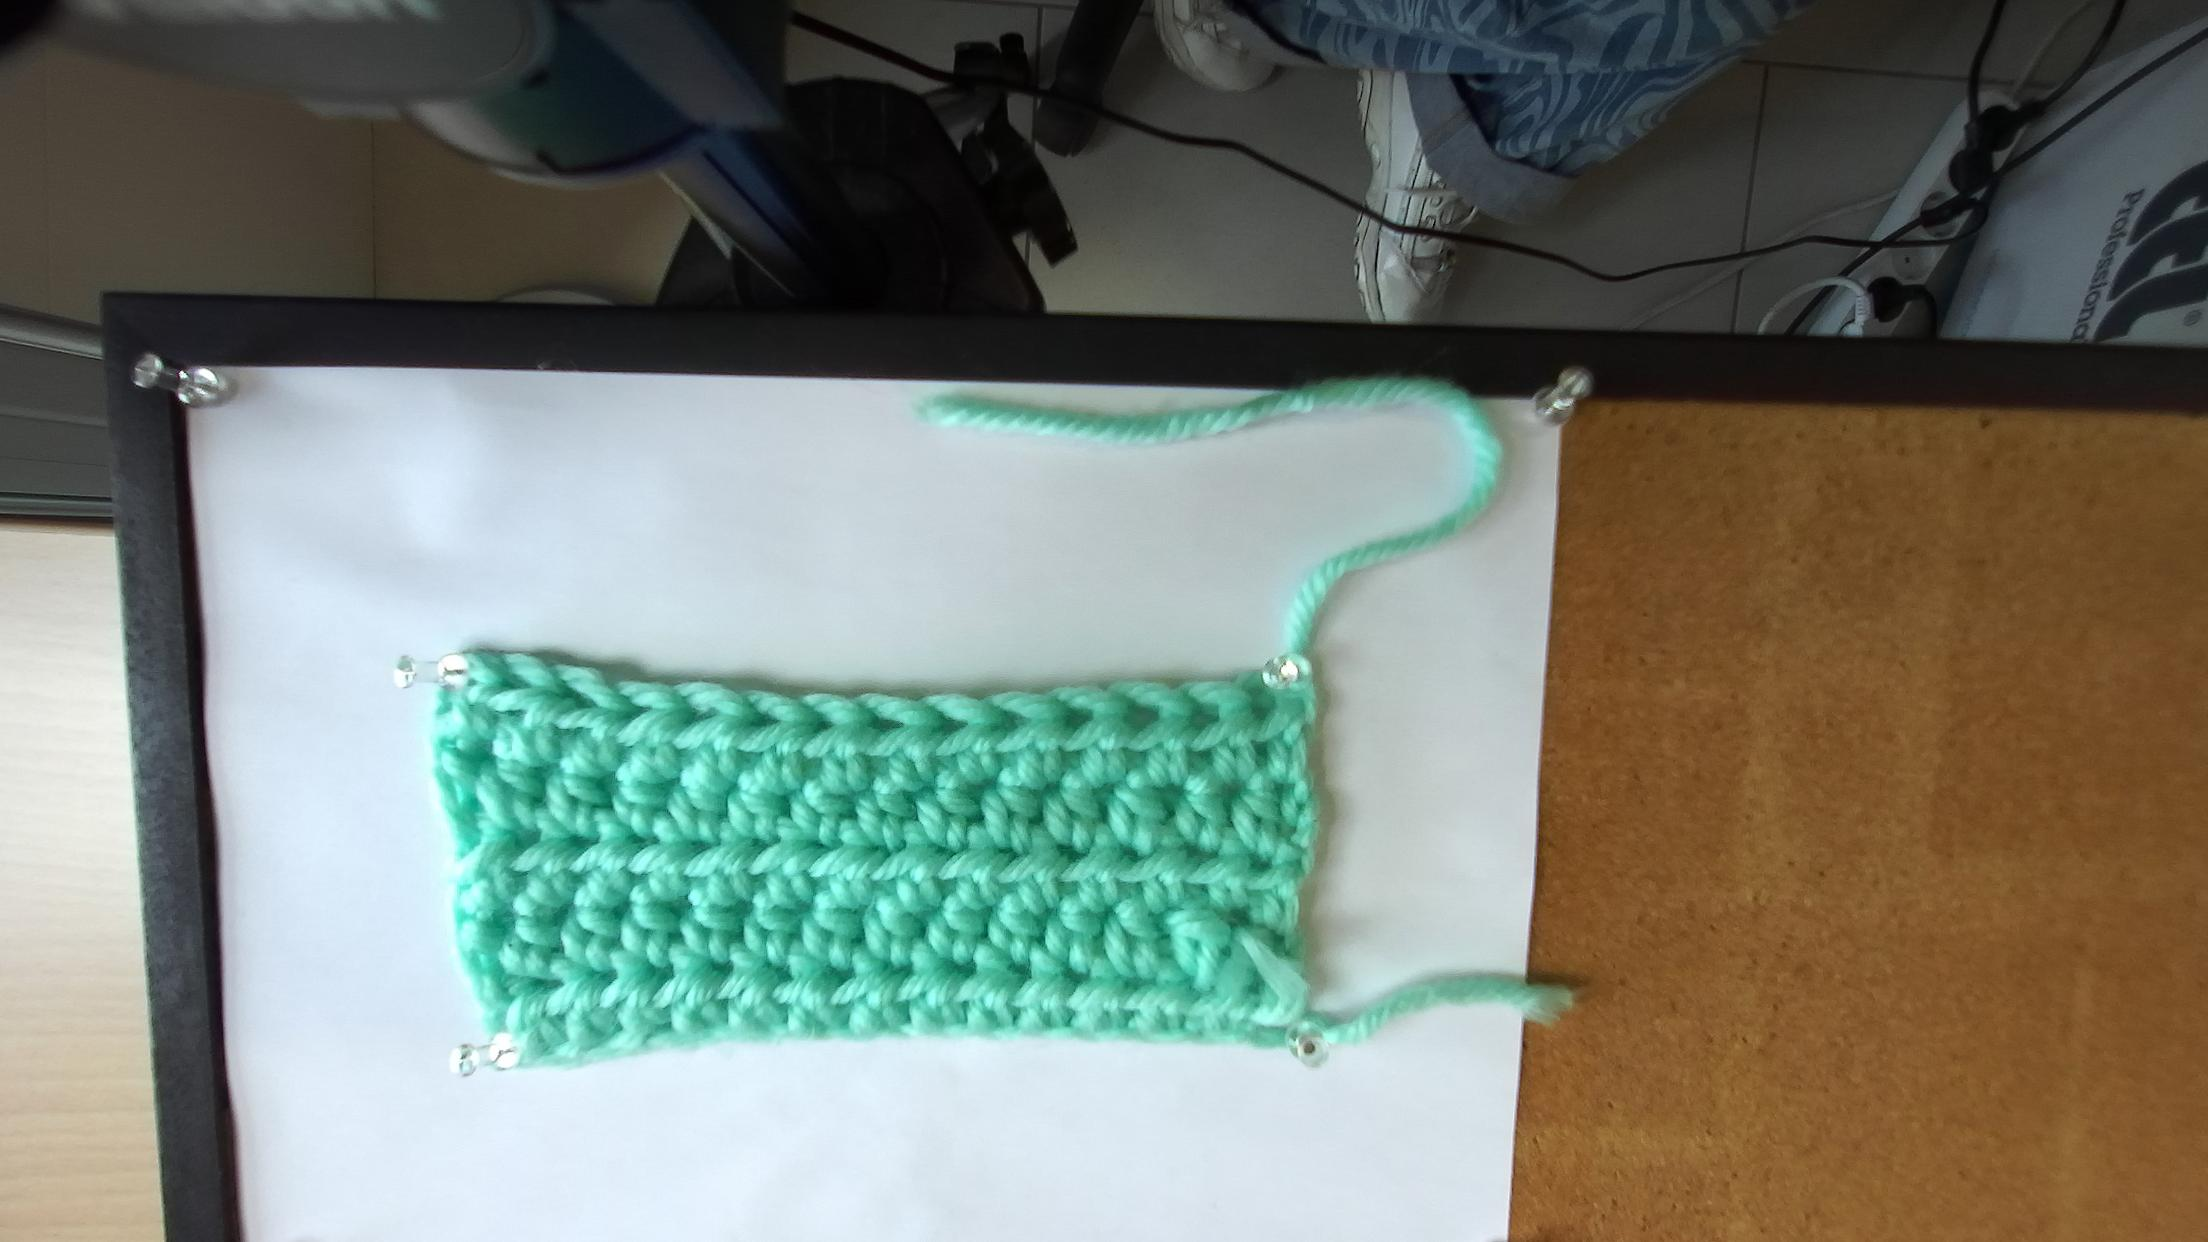hole: (554, 679, 597, 711), (1121, 702, 1160, 732), (1184, 699, 1219, 732), (990, 708, 1033, 734), (930, 710, 968, 737), (491, 669, 531, 695), (1060, 707, 1093, 735), (678, 704, 714, 728), (617, 696, 649, 723), (864, 713, 905, 734), (1250, 698, 1277, 723), (807, 714, 836, 737), (743, 710, 776, 728)
swatch: (425, 651, 1321, 1074)
